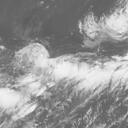cyclone: (25, 47, 74, 91)
